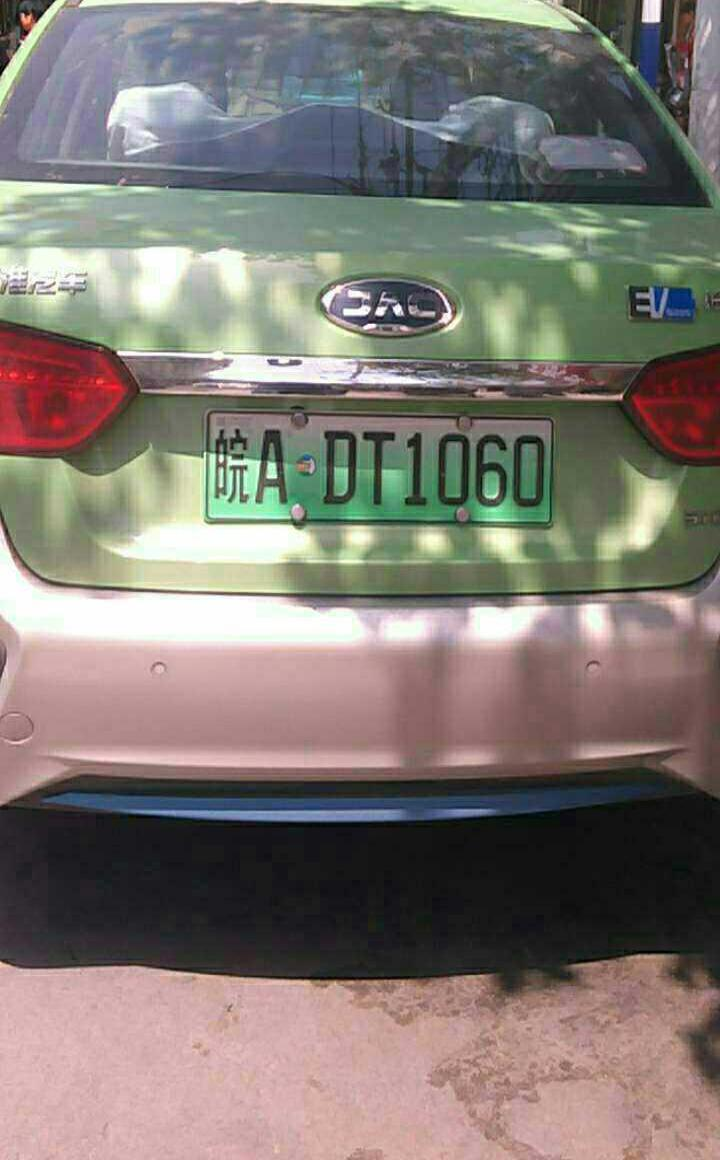car: (198, 404, 557, 537)
